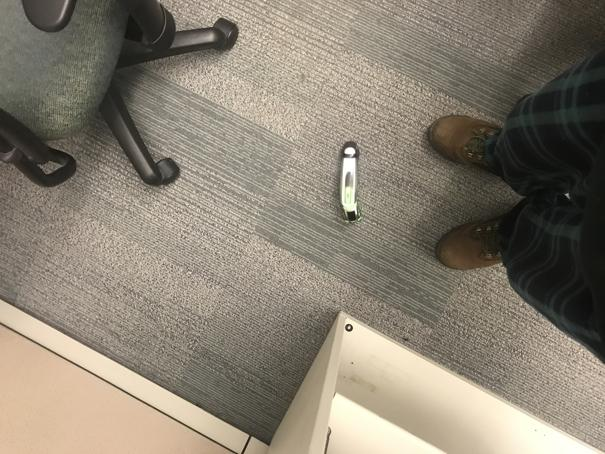Freewheel: (338, 143, 363, 224)
